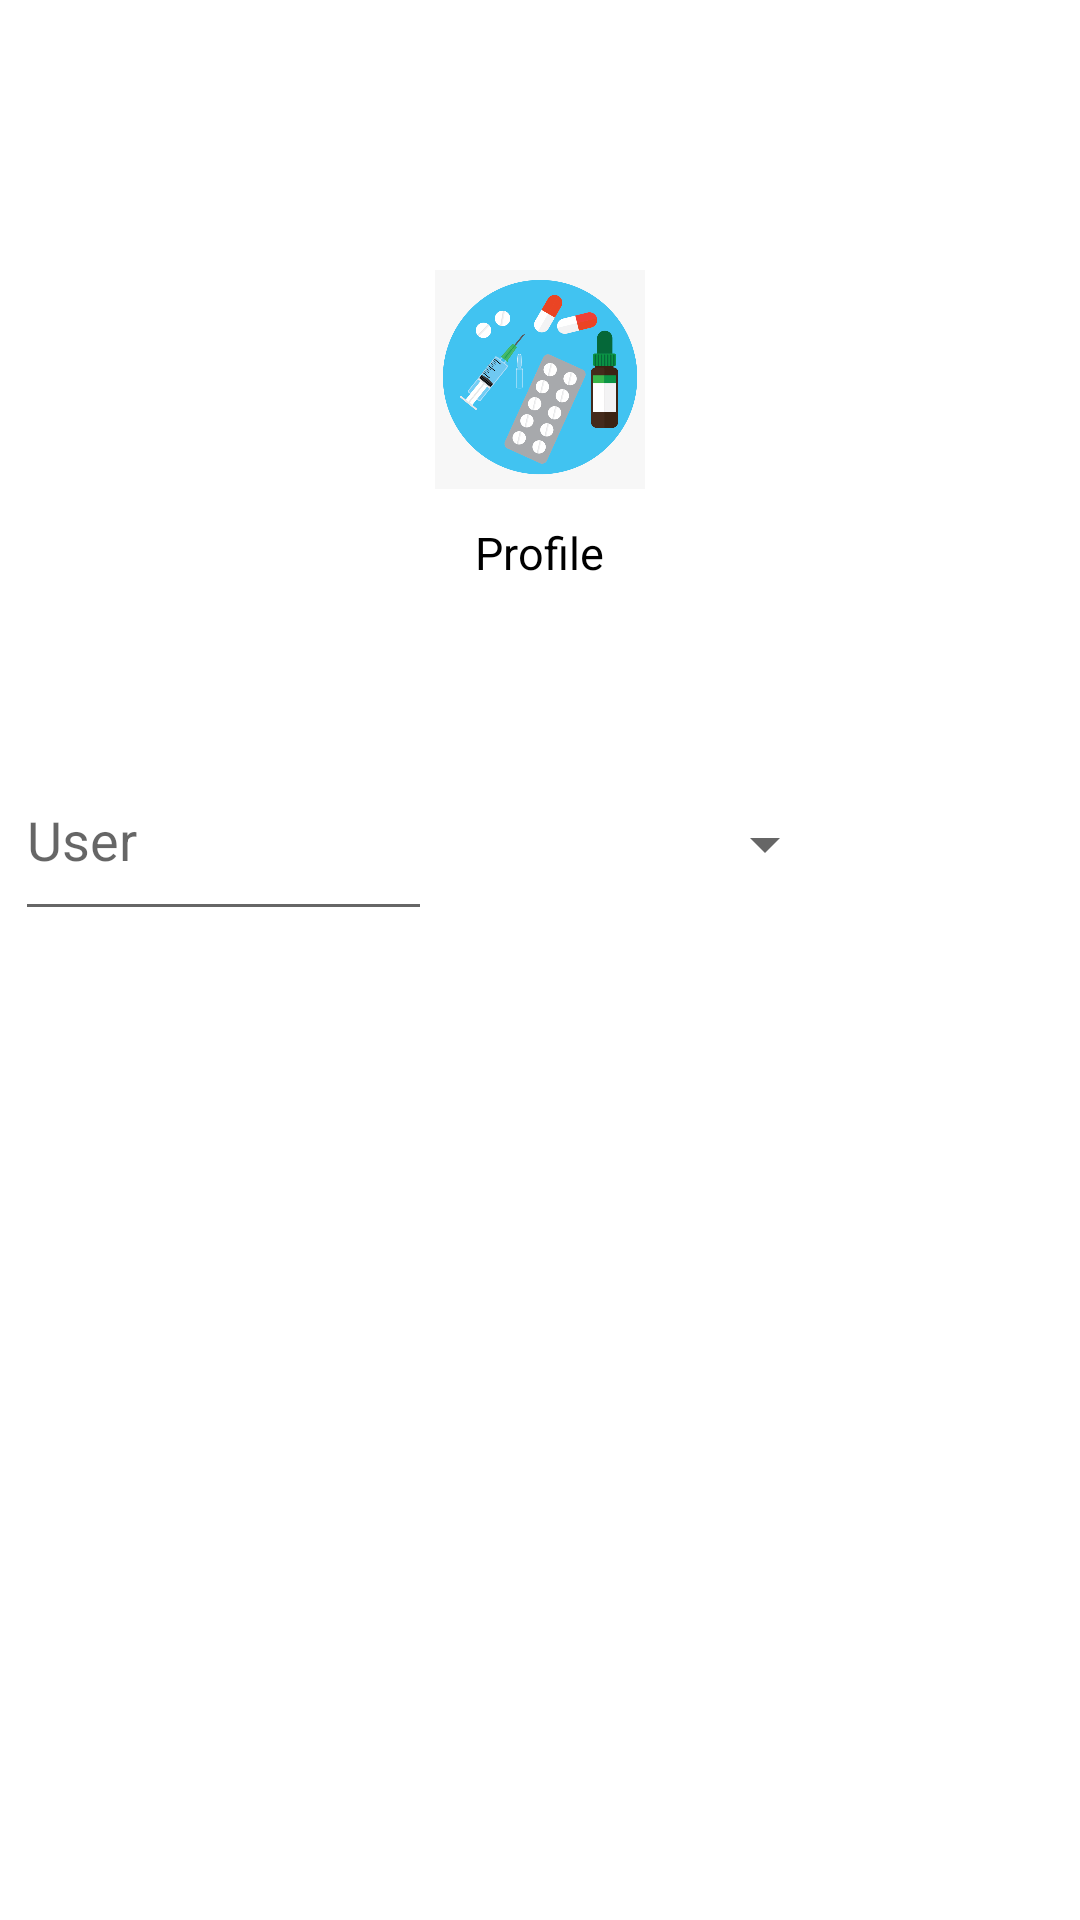

Locate icon controls on the screen. Image size 1080px×1920px, boxes as (x1, y1, x2, y2).
notifymed: (443, 280, 637, 474)
